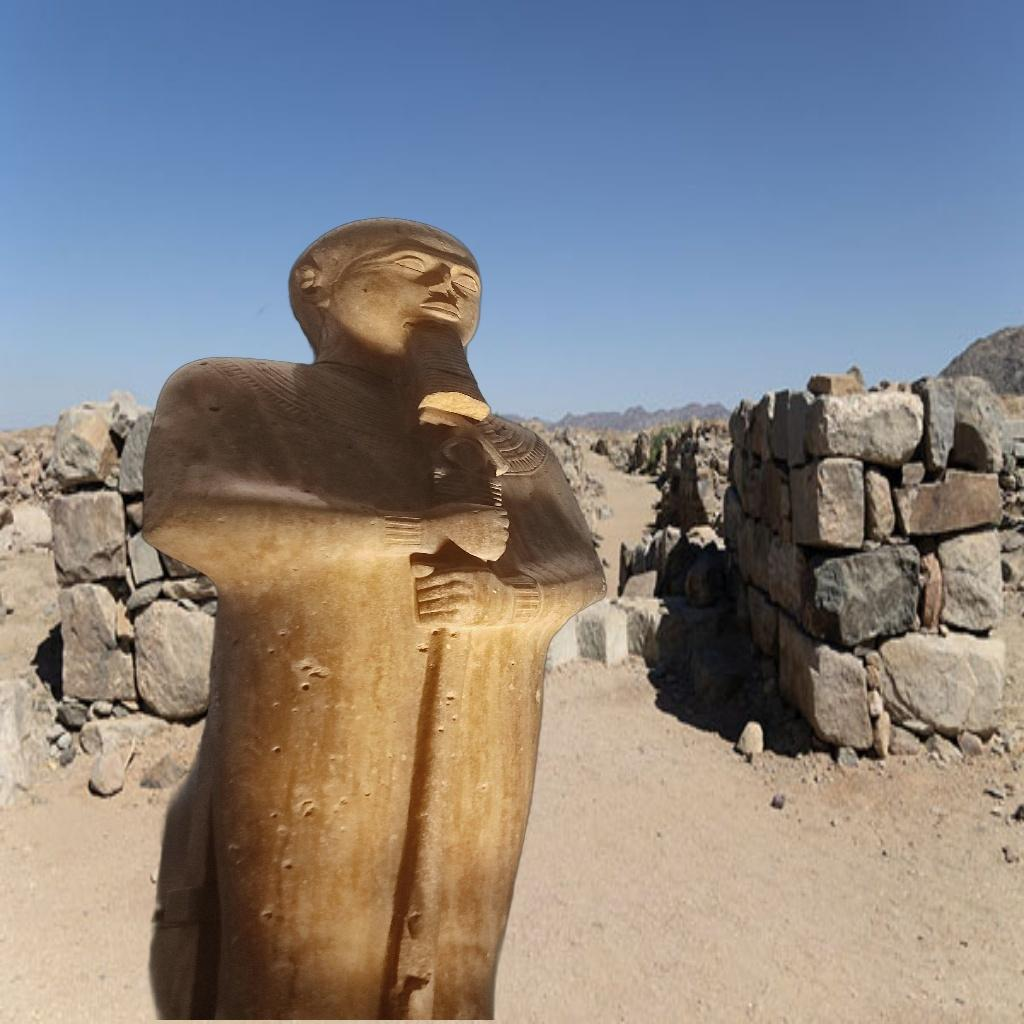Colossal Statue of God Ptah: (134, 211, 611, 1020)
